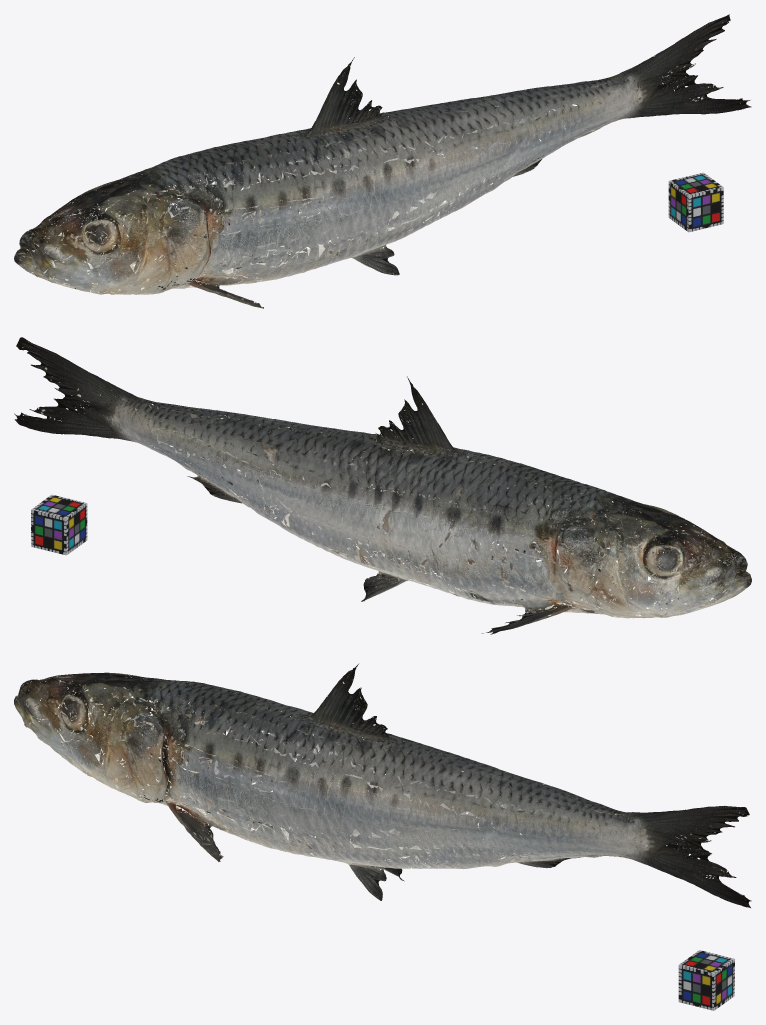
The model's file is scan_sardine.glb.
3 renders of one model, top to bottom at view 1: azimuth 30°, elevation 25°; view 2: azimuth 150°, elevation 25°; view 3: azimuth 330°, elevation 25°, orthographic.
Visible parts, largest first — view 1: Object_10, Object_6, Object_4; view 2: Object_6, Object_10, Object_4; view 3: Object_10, Object_6, Object_4.
Boxes of the visible parts, box(x1,y1,x2,y2) form: Object_10: box(14, 16, 750, 308); Object_6: box(14, 14, 751, 308); Object_4: box(668, 172, 723, 232); Object_6: box(14, 337, 751, 633); Object_10: box(15, 337, 751, 634); Object_4: box(31, 494, 87, 555); Object_10: box(16, 665, 751, 907); Object_6: box(14, 664, 751, 907); Object_4: box(678, 950, 734, 1010).
Size of the model in its own units: 11.09 by 3.6 by 1.39.
Materials: 3 (3 with a texture image).
